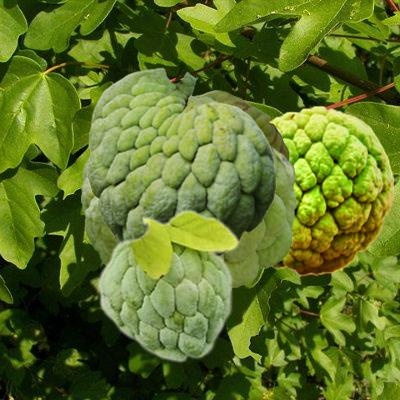atis: (81, 94, 295, 289), (87, 67, 275, 255), (96, 208, 239, 362), (269, 105, 392, 275), (194, 90, 288, 159)
